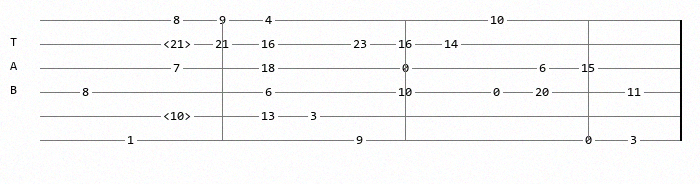0: (402, 62, 413, 74), (493, 86, 504, 98), (585, 134, 596, 146)
1: (127, 134, 138, 146)
10: (398, 86, 416, 98), (490, 14, 508, 26)
11: (627, 86, 645, 98)
13: (261, 110, 279, 122)
14: (444, 38, 462, 50)
15: (581, 62, 599, 74)
16: (261, 38, 279, 50), (398, 38, 416, 50)
18: (261, 62, 279, 74)
20: (535, 86, 553, 98)
21: (215, 38, 233, 50)
23: (353, 38, 371, 50)
3: (310, 110, 321, 122), (630, 134, 641, 146)
4: (265, 14, 276, 26)
6: (265, 86, 276, 98), (539, 62, 550, 74)
7: (173, 62, 184, 74)
8: (82, 86, 93, 98), (173, 14, 184, 26)
9: (219, 14, 230, 26), (356, 134, 367, 146)
harmonic: (163, 110, 195, 122), (163, 38, 195, 50)
